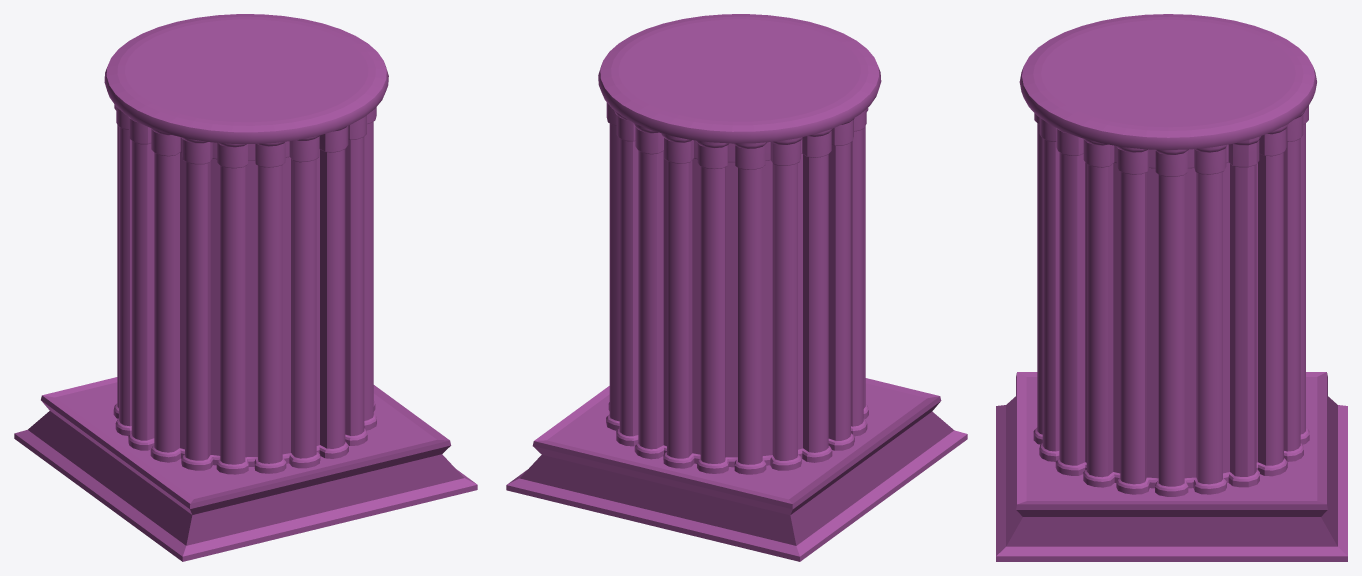
File: SM_Colonne_Milieu_01.fbx
3 views of the same model, side by side, from view 1: azimuth 30°, elevation 25°; view 2: azimuth 150°, elevation 25°; view 3: azimuth 270°, elevation 25° (orthographic). The views are drawn at different scales.
Visible parts, largest first — view 1: SM_Colonne_Milieu_01; view 2: SM_Colonne_Milieu_01; view 3: SM_Colonne_Milieu_01.
Part boxes in pixels (x1=…): SM_Colonne_Milieu_01: x1=14, y1=14, x2=477, y2=561; SM_Colonne_Milieu_01: x1=506, y1=14, x2=967, y2=561; SM_Colonne_Milieu_01: x1=996, y1=14, x2=1347, y2=561.
Bounding box in the file's own units: 164 × 210 × 163.
